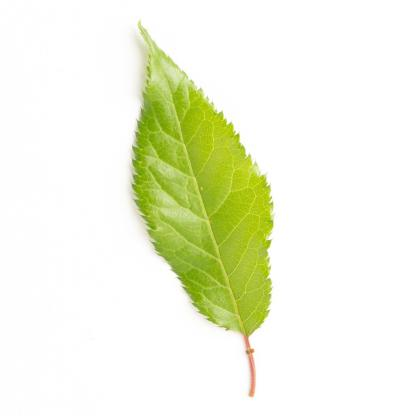Cherry leaf: (118, 25, 305, 393)
